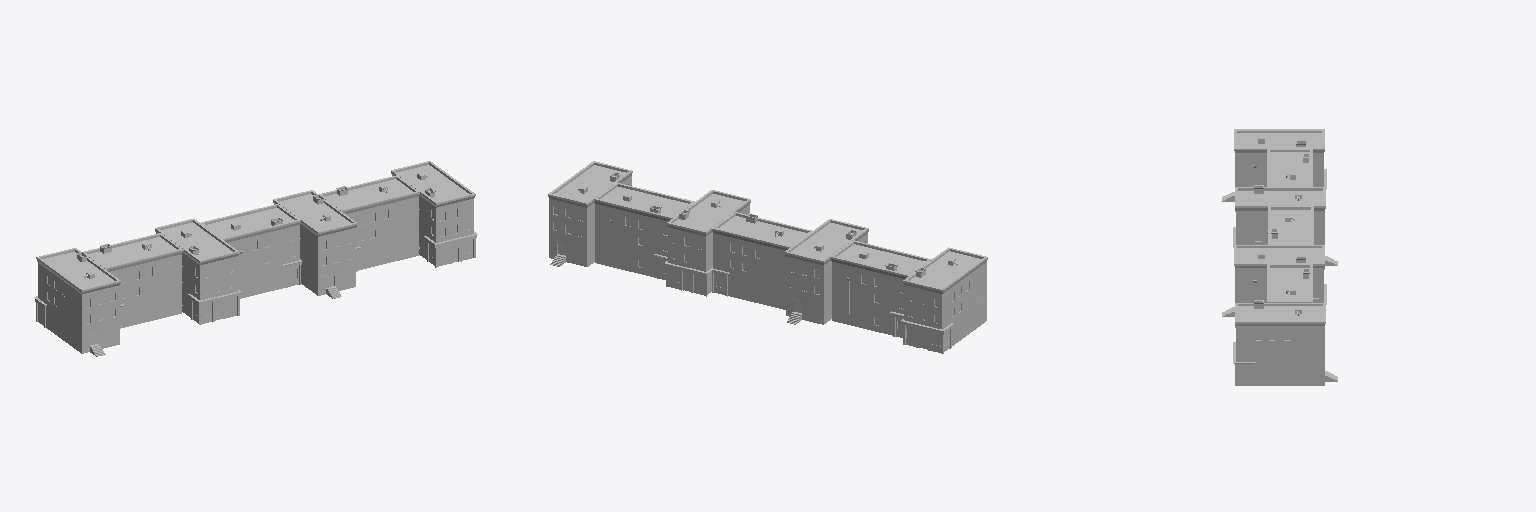
The model's file is building_left.obj.
3 views of the same model, side by side, from view 1: azimuth 30°, elevation 25°; view 2: azimuth 150°, elevation 25°; view 3: azimuth 270°, elevation 25° (orthographic).
Visible parts, largest first — view 1: barak_nalevo_Cube.028; view 2: barak_nalevo_Cube.028; view 3: barak_nalevo_Cube.028.
Boxes of the visible parts, x1=… form: barak_nalevo_Cube.028: x1=34, y1=161, x2=477, y2=356; barak_nalevo_Cube.028: x1=548, y1=161, x2=987, y2=353; barak_nalevo_Cube.028: x1=1222, y1=129, x2=1337, y2=385.
Size of the model in its own units: 59.49 by 9.64 by 15.08.